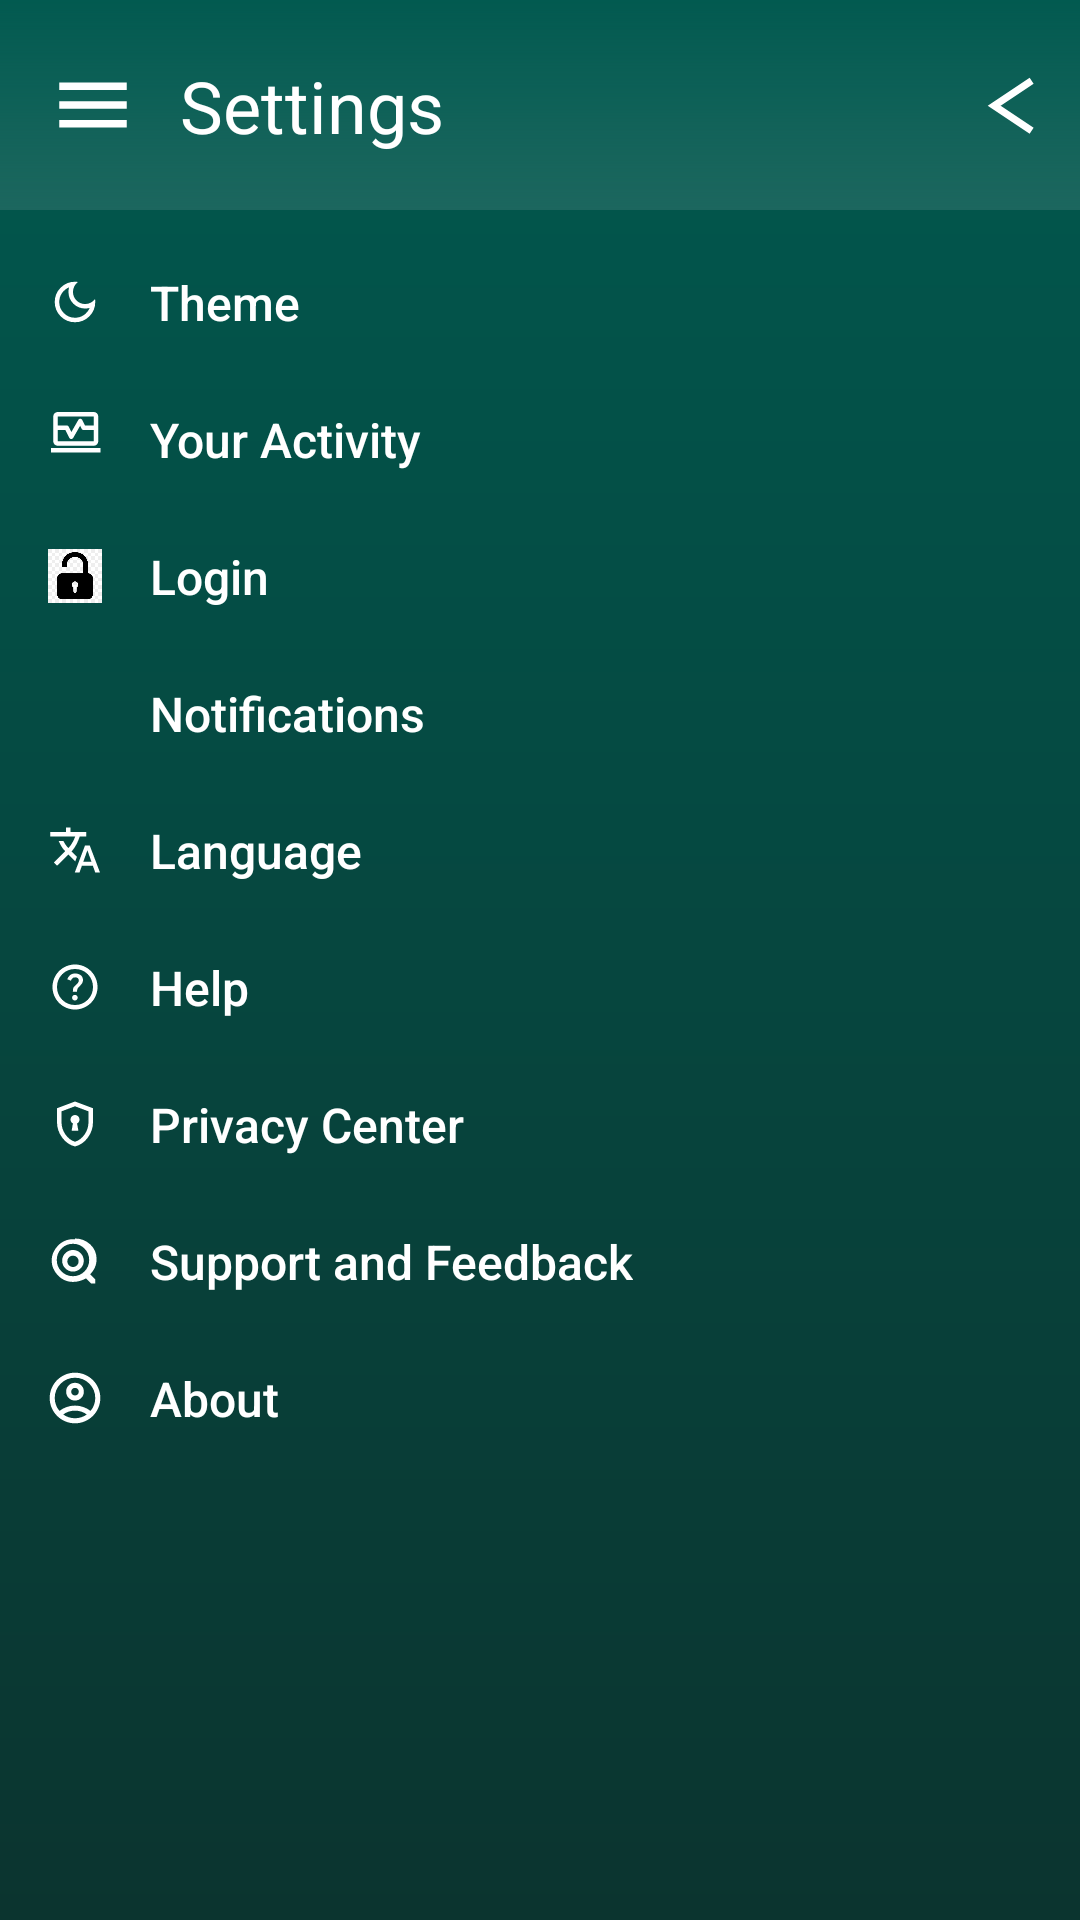

Icon bounding boxes for this 1080*1920 phone screenshot, format bbox=[x1, y1, x2, y2]:
back arrow: bbox=[988, 78, 1034, 134]
menu: bbox=[59, 82, 127, 128]
